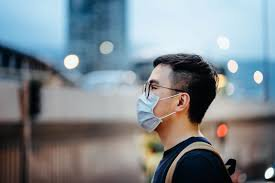mask: (134, 48, 219, 133)
